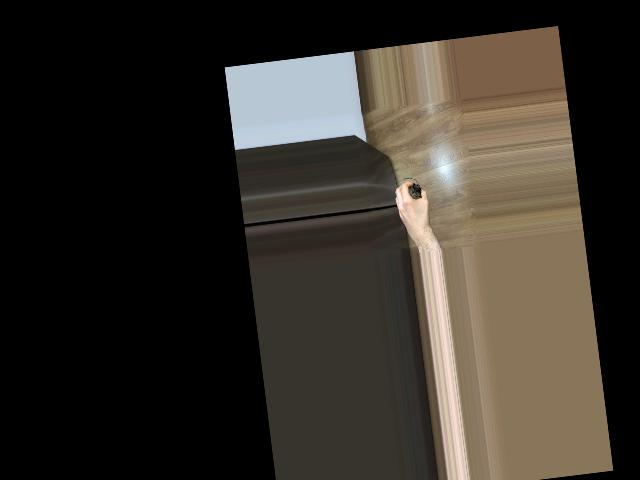beet: (403, 175, 422, 200)
